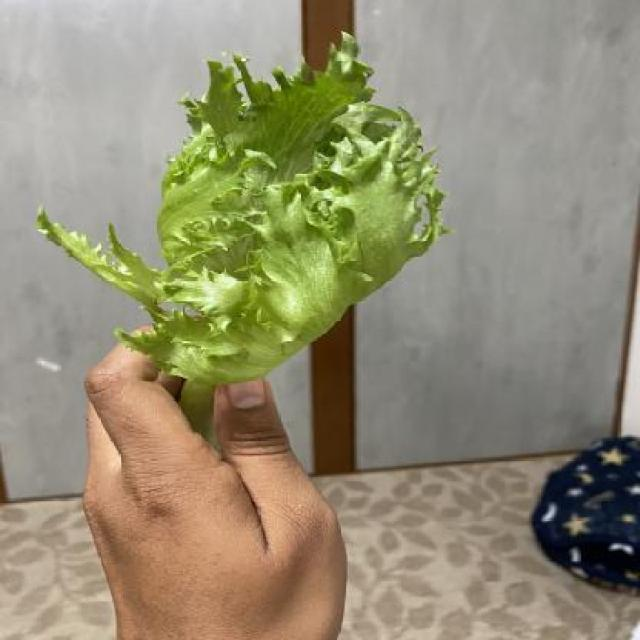Lettuce: (43, 29, 444, 433)
